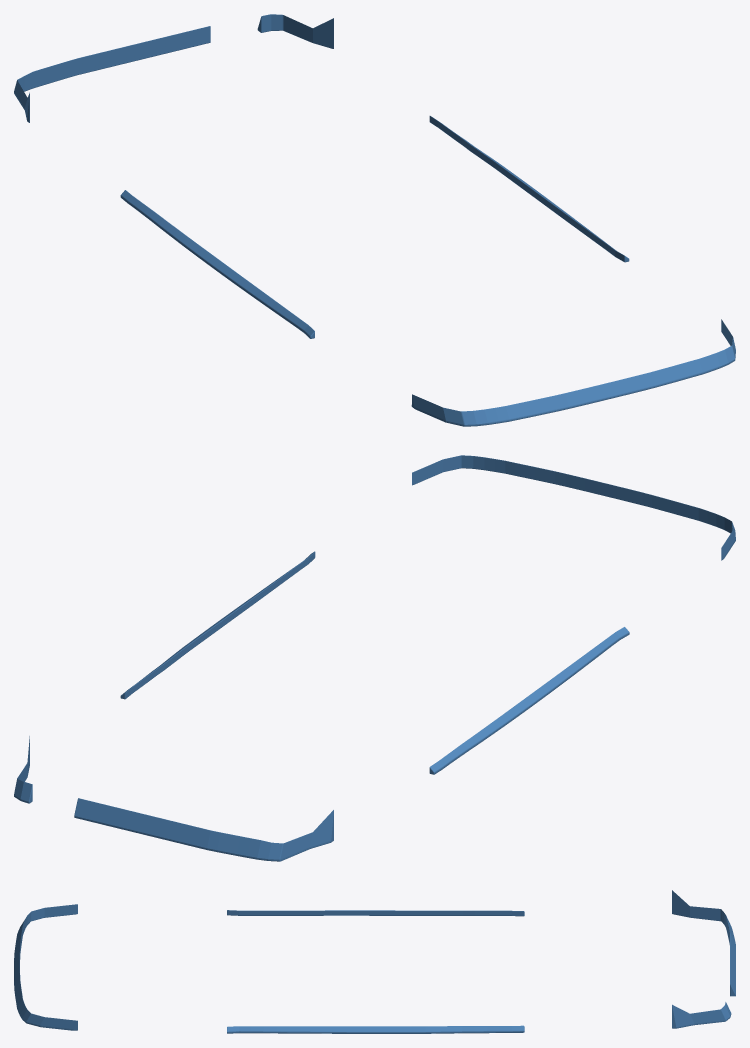
File: levin_ae92-kit1.glb
The picture shows the model from 3 angles, top to bottom: view 1: azimuth 30°, elevation 25°; view 2: azimuth 150°, elevation 25°; view 3: azimuth 270°, elevation 25°; orthographic projection. The views are drawn at different scales.
Visible parts, largest first — view 1: FRONT_VALANCE_1_0, REAR_VALANCE_1_0, SKIRT_L_1, SKIRT_R_1, REAR_VALANCE_1_1; view 2: REAR_VALANCE_1_0, FRONT_VALANCE_1_0, SKIRT_L_1, SKIRT_R_1; view 3: SKIRT_R_1, FRONT_VALANCE_1_0, SKIRT_L_1, REAR_VALANCE_1_0, REAR_VALANCE_1_1.
Part boxes in pixels (x1,y1,x2,y2): FRONT_VALANCE_1_0: (411,319,735,426); REAR_VALANCE_1_0: (14,26,210,122); SKIRT_L_1: (120,190,314,338); SKIRT_R_1: (429,116,629,262); REAR_VALANCE_1_1: (257,14,333,48); REAR_VALANCE_1_0: (74,798,333,861); FRONT_VALANCE_1_0: (412,455,735,560); SKIRT_L_1: (429,627,629,774); SKIRT_R_1: (120,551,315,699); SKIRT_R_1: (227,1025,524,1033); FRONT_VALANCE_1_0: (14,904,77,1030); SKIRT_L_1: (227,910,524,916); REAR_VALANCE_1_0: (672,890,735,996); REAR_VALANCE_1_1: (672,1002,731,1028).
Size of the model in its own units: 1.61 by 0.1651 by 4.07.
